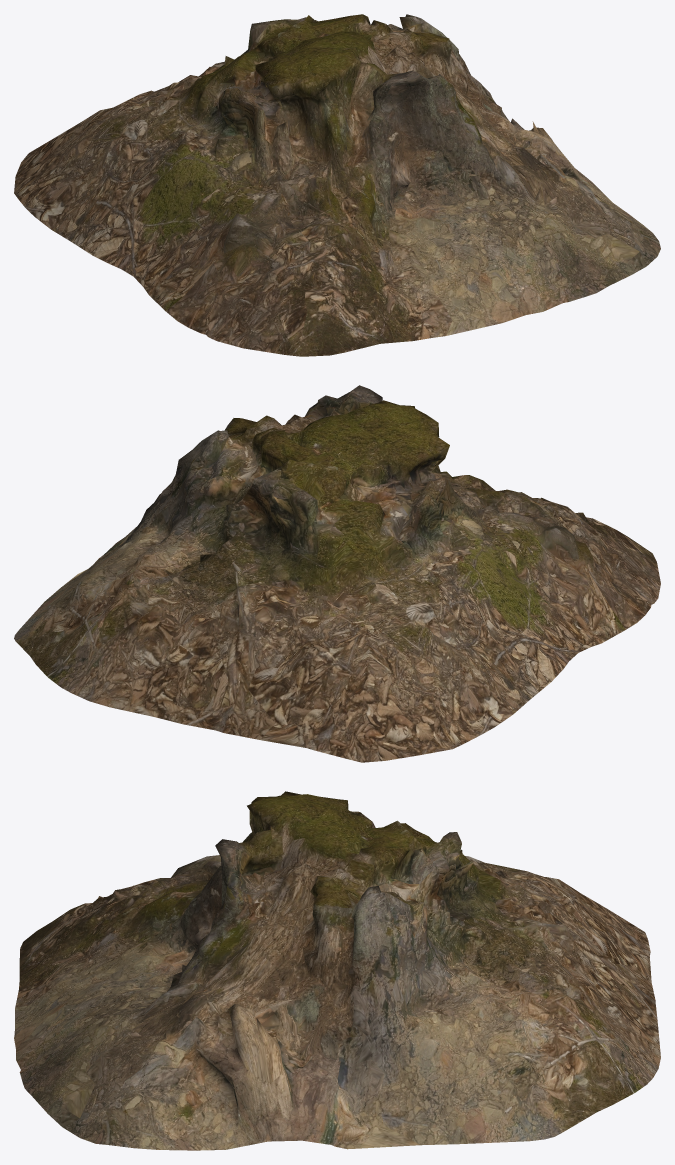
Rendered from SM_Stump_01.gltf.
3 renders of one model, top to bottom at view 1: azimuth 30°, elevation 25°; view 2: azimuth 150°, elevation 25°; view 3: azimuth 270°, elevation 25°, orthographic. The views are drawn at different scales.
Parts seen in each view (by area): view 1: SM_Stump_01; view 2: SM_Stump_01; view 3: SM_Stump_01.
Boxes of the visible parts, bbox=[...] form: SM_Stump_01: bbox=[14, 14, 660, 356]; SM_Stump_01: bbox=[14, 385, 660, 762]; SM_Stump_01: bbox=[14, 791, 660, 1150].
Bounding box in the file's own units: 1.42 × 0.5722 × 1.59.
1 material, 1 textured.
